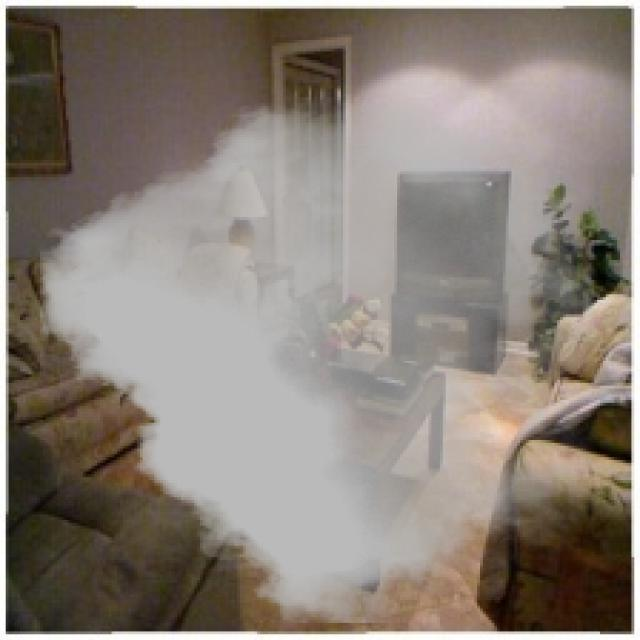Smoke: (39, 97, 594, 623)
